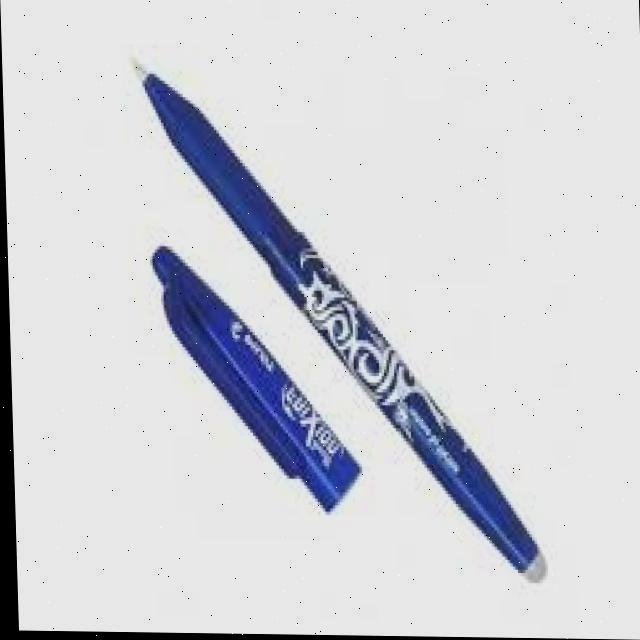pen: (130, 59, 544, 584)
